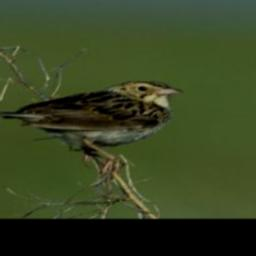Sparrow: (0, 75, 194, 179)
